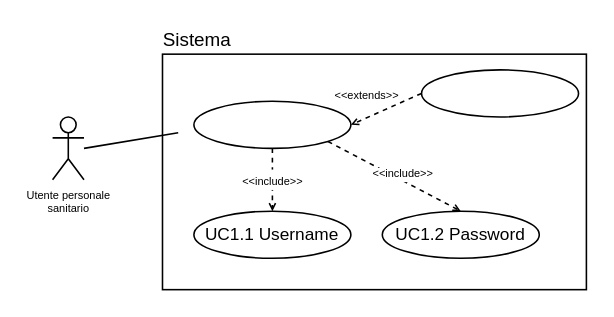
Some shapes in this 614 by 317 pixel diagram are drawn without their labels. Each missing label, with the centre of its shape:
"UC1 Autenticazione" belongs at (x=271, y=124).
"UC1.3 Auth. fallita" belongs at (x=499, y=92).
